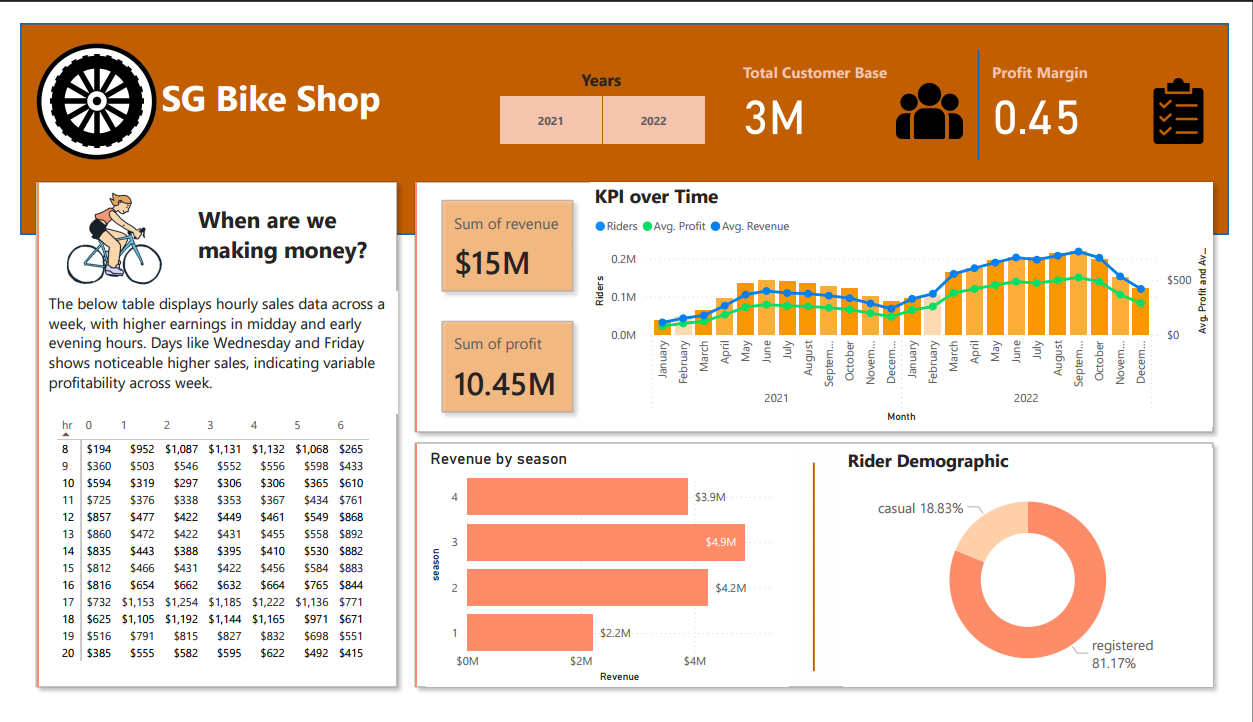

This screenshot's page, from the dashboard's own definition file:
{"tool":"powerbi","page":{"name":"Page 1","canvas":[1280,720],"ordinal":0},"visuals":[{"type":"shape","box":[0,0,1279.4,223],"z":0},{"type":"cardVisual","fields":{"Data":["Sum(Query1.riders)"]},"box":[0,151,416,569],"z":1000},{"type":"cardVisual","fields":{"Data":["Sum(Query1.riders)"]},"box":[400.6,151.2,878.7,298.6],"z":2000},{"type":"cardVisual","fields":{"Data":["Sum(Query1.riders)"]},"box":[400.6,427.1,878.7,292.9],"z":3000},{"type":"cardVisual","fields":{"Data":["Sum(Query1.riders)"]},"box":[1.9,141.7,207.9,179.5],"z":4000},{"type":"pivotTable","fields":{"Rows":["Query1.hr"],"Values":["Avg(Query1.revenue)"],"Columns":["Query1.weekday"]},"box":[34,410.1,351.5,275.9],"z":5000},{"type":"textbox","box":[183.3,185.2,202.2,115.3],"z":6000},{"type":"textbox","box":[24,284,362,130],"z":7000},{"type":"lineClusteredColumnComboChart","title":"KPI over Time","fields":{"Category":["Query1.dteday.Variation.Date Hierarchy.Year","Query1.dteday.Variation.Date Hierarchy.Month","Query1.dteday.Variation.Date Hierarchy.Day"],"Y":["Sum(Query1.riders)"],"Y2":["Avg(Query1.profit)","Avg(Query1.revenue)"]},"box":[602.8,168.2,659.5,258.9],"z":8000},{"type":"clusteredBarChart","fields":{"Category":["Query1.season"],"Y":["Sum(Query1.revenue)"]},"box":[429,449.8,383.6,253.2],"z":9000},{"type":"donutChart","title":"Rider Demographic","fields":{"Category":["Query1.rider_type"],"Y":["Sum(Query1.riders)"]},"box":[871.2,449.8,391.2,253.2],"z":10000},{"type":"shape","box":[786.1,464.9,107.7,221.1],"z":11000},{"type":"cardVisual","title":"KPI over Time","fields":{"Data":["Sum(Query1.revenue)","Sum(Query1.profit)"]},"box":[429,170.1,173.9,258.9],"z":12000},{"type":"cardVisual","fields":{"Data":["Sum(Query1.riders)","Query1.Profit Margin"]},"box":[748.4,0,531,168.2],"z":13000},{"type":"shape","box":[17,20.8,126.6,122.8],"z":14000},{"type":"image","box":[24.6,28.3,111.5,107.7],"z":15000},{"type":"textbox","box":[143.6,47.2,255.1,94.5],"z":16000},{"type":"slicer","title":"Years","fields":{"Values":["Query1.Years"]},"box":[481.9,47.2,266.5,86.9],"z":17000},{"type":"shape","box":[988.4,28.3,52.9,115.3],"z":18000}]}

Visuals, with their boxes in screenshot pixels (x1, y1, x2, y2), scaled from the page's 1280x720 canvas onto the 1253x722 screenshot:
shape: region(0, 0, 1252, 224)
cardVisual - Sum(Query1.riders): region(0, 151, 407, 721)
cardVisual - Sum(Query1.riders): region(392, 152, 1252, 451)
cardVisual - Sum(Query1.riders): region(392, 428, 1252, 721)
cardVisual - Sum(Query1.riders): region(2, 142, 205, 322)
pivotTable - Query1.hr x Avg(Query1.revenue): region(33, 411, 377, 688)
textbox: region(179, 186, 377, 301)
textbox: region(23, 285, 378, 415)
"KPI over Time" lineClusteredColumnComboChart: region(590, 169, 1236, 428)
clusteredBarChart - Query1.season x Sum(Query1.revenue): region(420, 451, 795, 705)
"Rider Demographic" donutChart: region(853, 451, 1236, 705)
shape: region(770, 466, 875, 688)
"KPI over Time" cardVisual: region(420, 171, 590, 430)
cardVisual - Sum(Query1.riders) x Query1.Profit Margin: region(733, 0, 1252, 169)
shape: region(17, 21, 141, 144)
image: region(24, 28, 133, 136)
textbox: region(141, 47, 390, 142)
"Years" slicer: region(472, 47, 733, 134)
shape: region(968, 28, 1019, 144)
